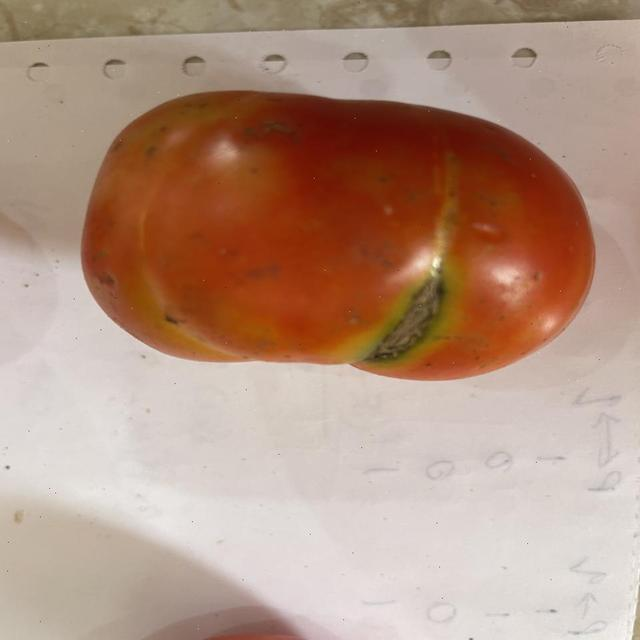Cracking Fruit: (112, 111, 365, 361)
